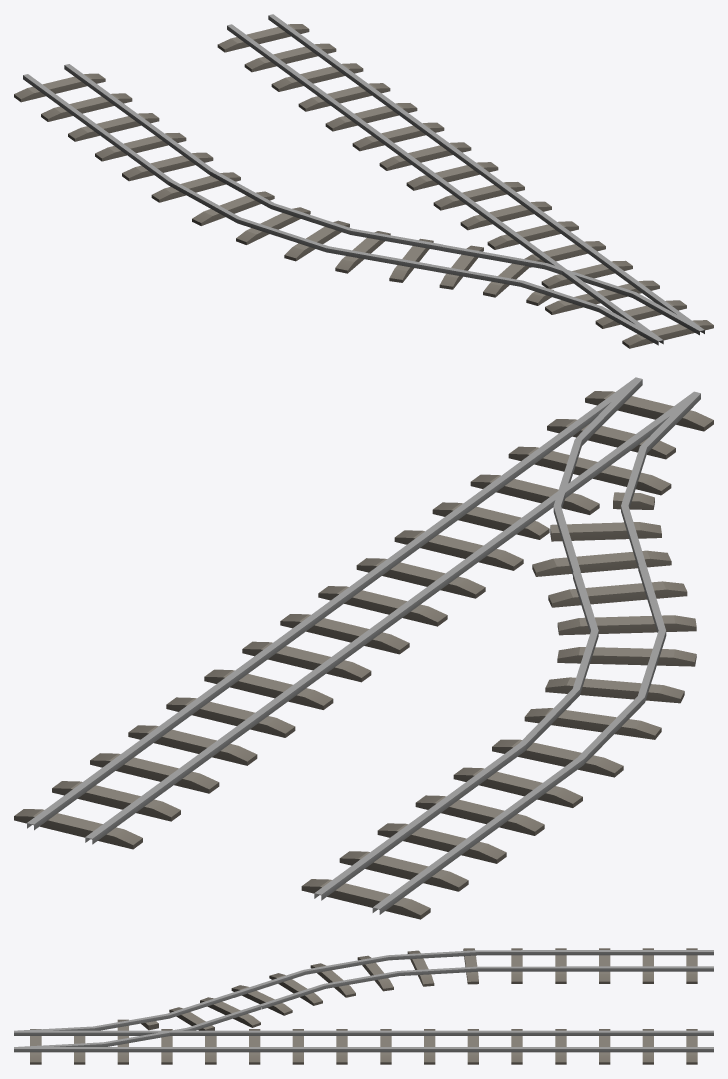
Rendered from Railway_Line_Y_L.fbx.
3 views of the same model, one above another, from view 1: azimuth 30°, elevation 25°; view 2: azimuth 150°, elevation 25°; view 3: azimuth 270°, elevation 25° (orthographic). The views are drawn at different scales.
Parts seen in each view (by area): view 1: Railway_Line_Y_L; view 2: Railway_Line_Y_L; view 3: Railway_Line_Y_L.
Boxes of the visible parts, x1,y1,x2,y2 form: Railway_Line_Y_L: (14, 14, 713, 348); Railway_Line_Y_L: (14, 377, 713, 919); Railway_Line_Y_L: (14, 948, 713, 1064).
Size of the model in its own units: 1543 by 51.82 by 4000.
